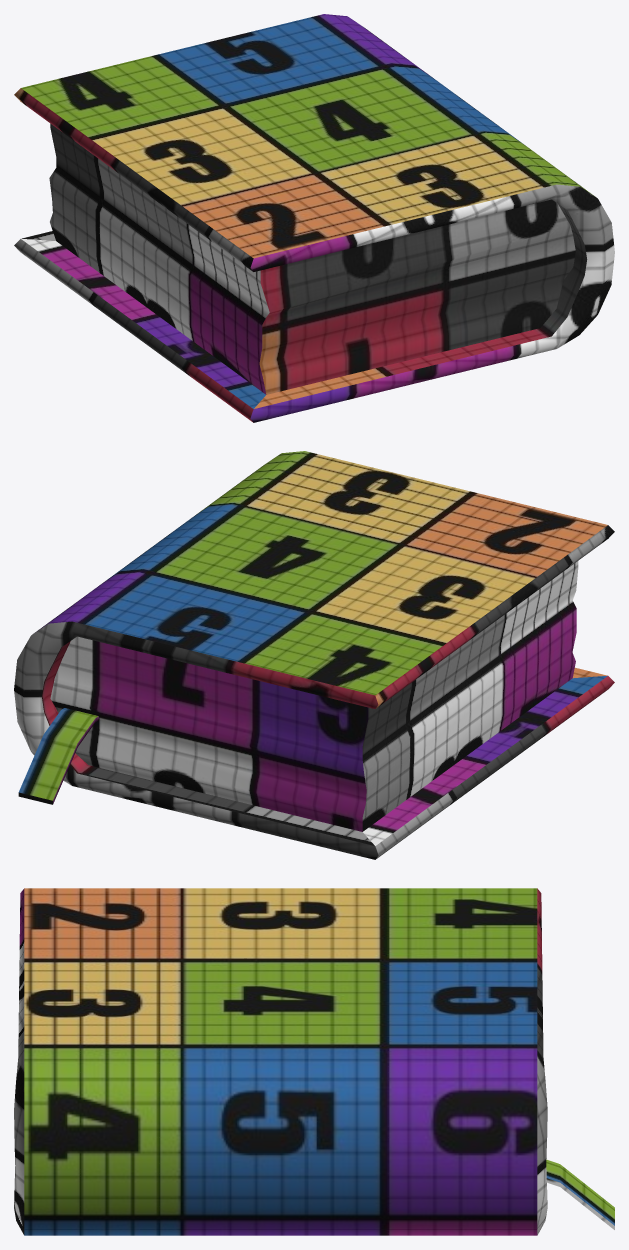
Rendered from SM_Bible_LP.fbx.
3 renders of one model, top to bottom at view 1: azimuth 30°, elevation 25°; view 2: azimuth 150°, elevation 25°; view 3: azimuth 270°, elevation 25°, orthographic. The views are drawn at different scales.
Visible parts, largest first — view 1: SM_Bible_LP; view 2: SM_Bible_LP; view 3: SM_Bible_LP.
Part boxes in pixels (x1,y1,x2,y2): SM_Bible_LP: (14, 14, 614, 422); SM_Bible_LP: (14, 451, 614, 859); SM_Bible_LP: (14, 888, 614, 1235).
Bounding box in the file's own units: 23.05 × 9.89 × 29.72.
1 material, 1 textured.
